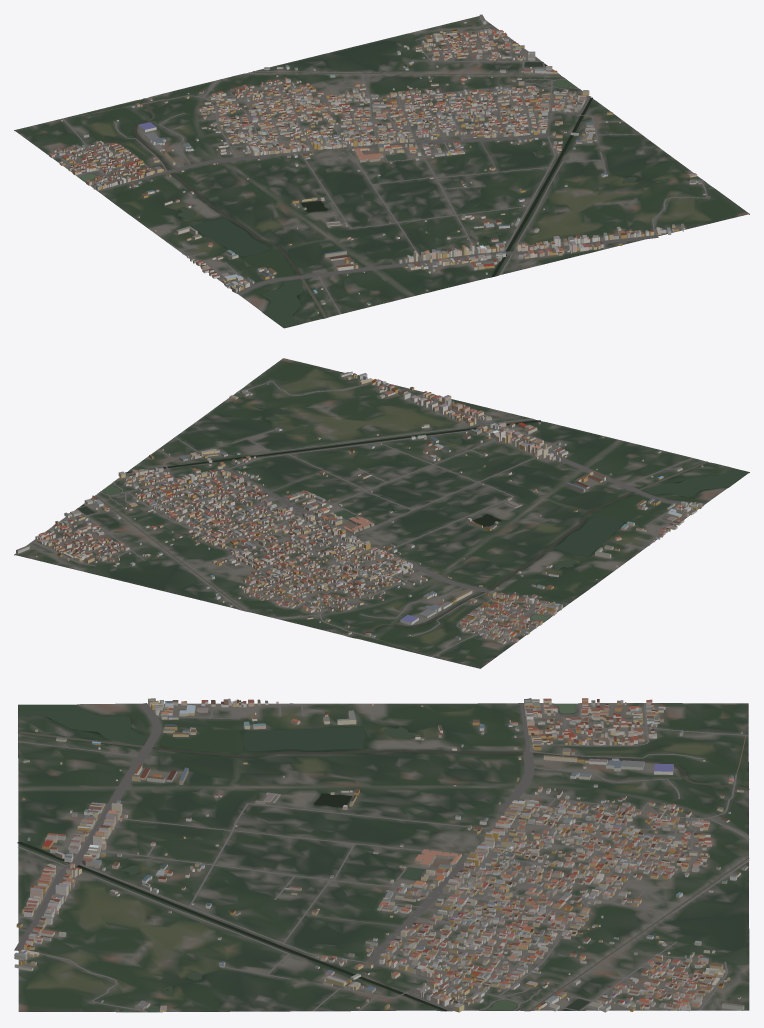
The picture shows the model from 3 angles, top to bottom: view 1: azimuth 30°, elevation 25°; view 2: azimuth 150°, elevation 25°; view 3: azimuth 270°, elevation 25°; orthographic projection. The views are drawn at different scales.
Visible parts, largest first — view 1: ground, buildings, roads, water; view 2: ground, buildings, roads, water; view 3: ground, buildings, roads, water.
Part boxes in pixels (x1=…): ground: x1=14, y1=16, x2=749, y2=328; buildings: x1=49, y1=14, x2=705, y2=313; roads: x1=50, y1=26, x2=707, y2=314; water: x1=79, y1=62, x2=710, y2=327; ground: x1=14, y1=358, x2=749, y2=668; buildings: x1=16, y1=371, x2=703, y2=656; roads: x1=32, y1=379, x2=704, y2=657; water: x1=78, y1=386, x2=748, y2=637; ground: x1=18, y1=703, x2=749, y2=1012; buildings: x1=14, y1=698, x2=748, y2=1012; roads: x1=14, y1=703, x2=749, y2=1012; water: x1=17, y1=703, x2=749, y2=1011.
Size of the model in its own units: 1416 by 29.63 by 1412.
